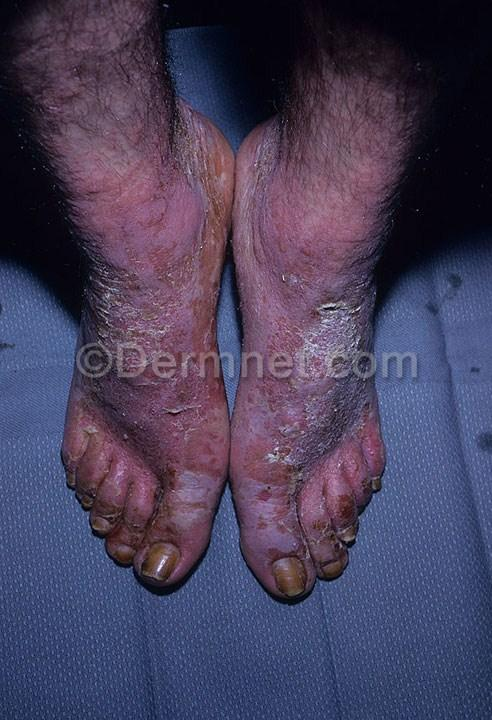Eczema: (258, 104, 393, 248), (71, 163, 179, 330), (31, 0, 140, 154), (251, 252, 395, 363), (242, 366, 363, 489), (112, 336, 205, 449), (321, 26, 415, 119), (153, 116, 227, 231)
